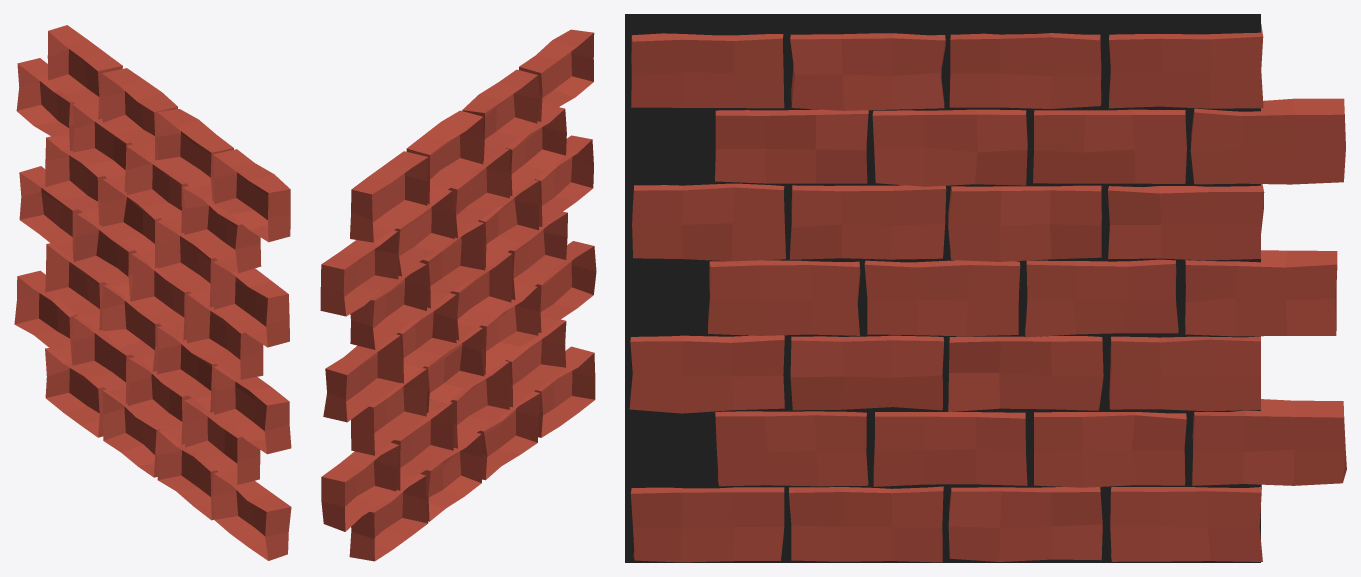
File: Wall.fbx
3 views of the same model, side by side, from view 1: azimuth 30°, elevation 25°; view 2: azimuth 150°, elevation 25°; view 3: azimuth 270°, elevation 25° (orthographic). The views are drawn at different scales.
Parts seen in each view (by area): view 1: Plane; view 2: Plane; view 3: Plane.
Boxes of the visible parts, left/top/right/bottom form: Plane: left=14, top=25, right=291, bottom=560; Plane: left=320, top=29, right=596, bottom=561; Plane: left=625, top=14, right=1346, bottom=562.
Bounding box in the file's own units: 59.11 × 800 × 953.
